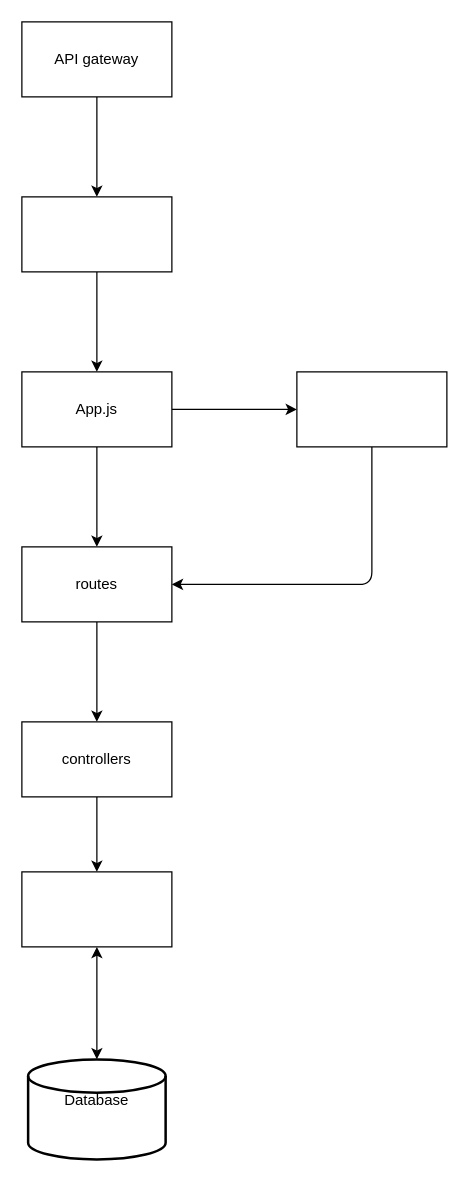
The diagram is 469 pixels wide and 1183 high, and some of its shapes have lost their labels. The centre of each missing label's shape, as x and y in pixels:
middleware: point (371, 409)
models: point (96, 909)
server: point (96, 234)
